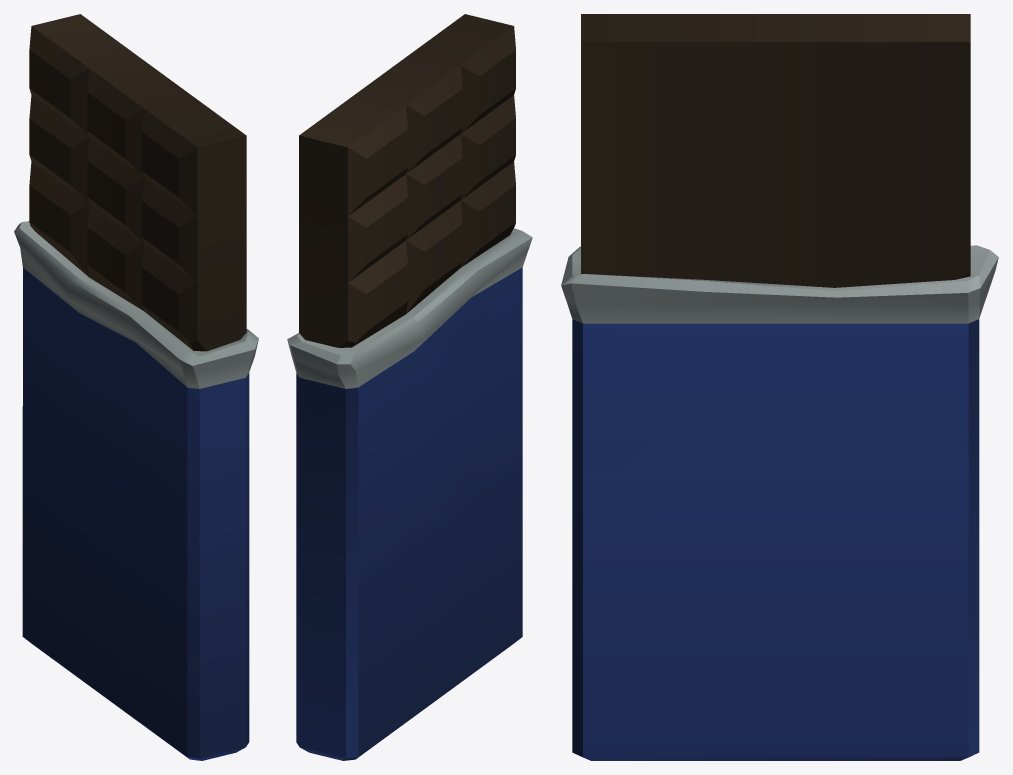
Rendered from Cioccolato.fbx.
3 renders of one model, left to right at view 1: azimuth 30°, elevation 25°; view 2: azimuth 150°, elevation 25°; view 3: azimuth 270°, elevation 25°, orthographic. The views are drawn at different scales.
Visible parts, largest first — view 1: pCube319; view 2: pCube319; view 3: pCube319.
Boxes of the visible parts, left/top/right/bottom form: pCube319: left=14, top=14, right=258, bottom=760; pCube319: left=287, top=14, right=532, bottom=760; pCube319: left=561, top=14, right=998, bottom=760.
Bounding box in the file's own units: 0.0138 × 0.0982 × 0.0541.
